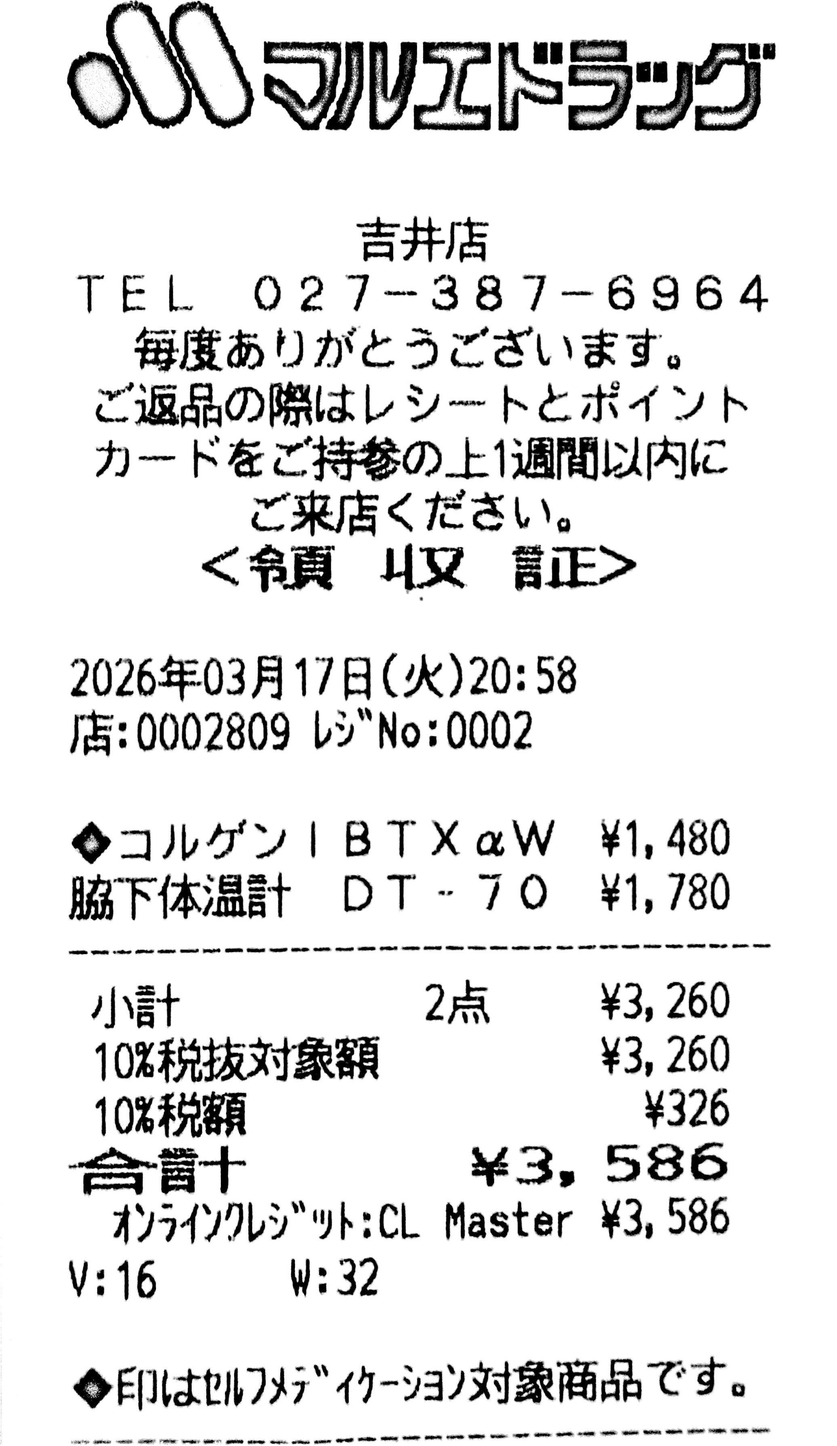Date: (70, 656, 371, 701)
Pay: (68, 1142, 728, 1196)
Shopname: (263, 41, 776, 131)
Telnum: (254, 273, 770, 313)
